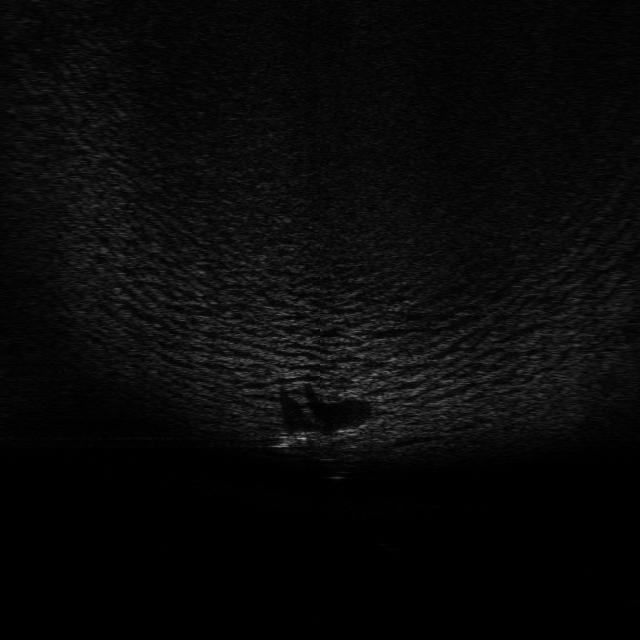plane: (267, 423, 359, 449)
